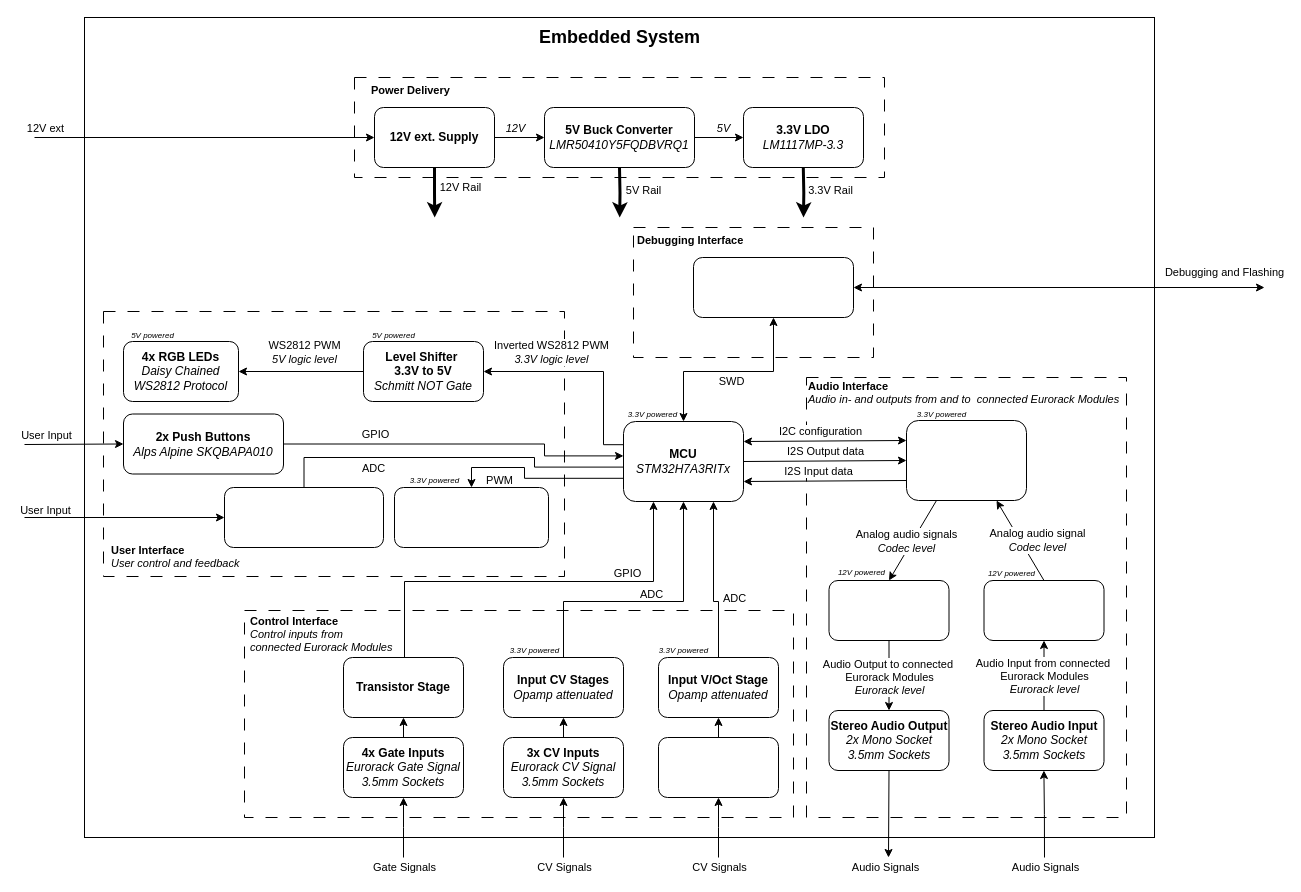
Some shapes in this 1301 by 892 pixel diagram are drawn without their labels. Here are the shapes that lost their labels. From the top down, the centre of each, then its label:
At pixel 773 287: "SWD 1.27mm Pitch Connector".
At pixel 966 460: "Audio Codec TLV320AIC3204".
At pixel 304 517: "4x Slide Potentiometer Bourns PTL30-15R1-103B2".
At pixel 471 517: "4x LEDs of Slide Pots Bourns PTL30-15R1-103B2".
At pixel 888 610: "Output Stages Opamp amplified".
At pixel 1043 610: "Input Stages Opamp attenuated".
At pixel 718 767: "1x V/Oct Inputs Eurorack CV Signal 3.5mm Sockets".
